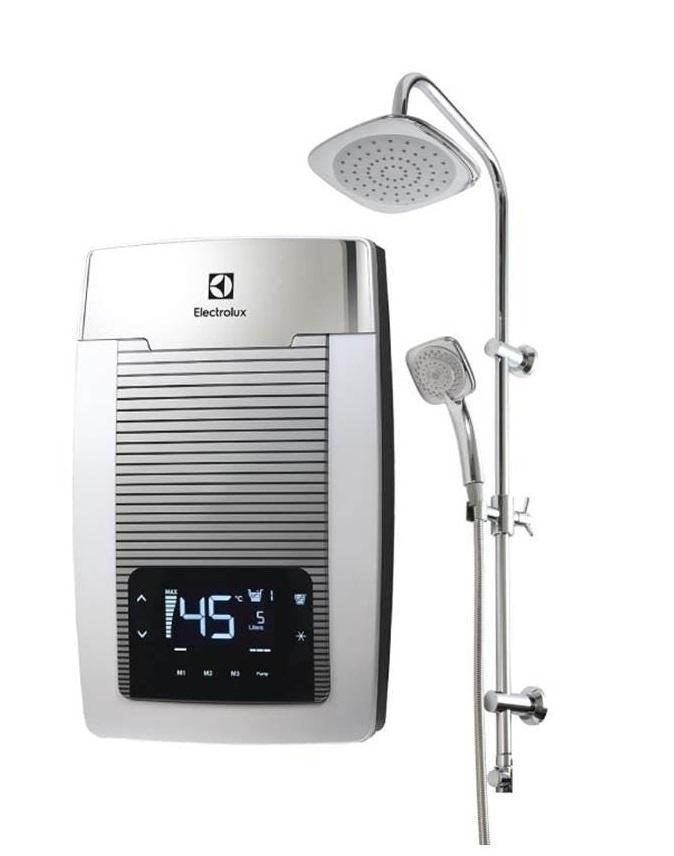Ducha: (62, 64, 539, 855)
